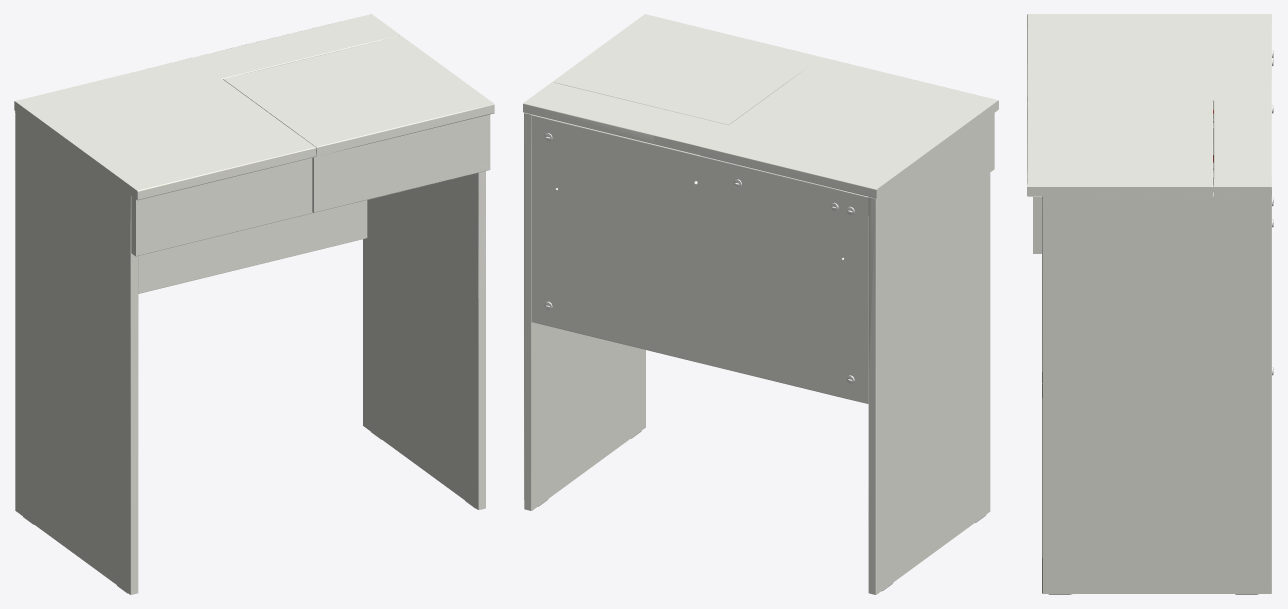
Rendered from BRIMNES_70290459.glb.
The picture shows the model from 3 angles, left to right: view 1: azimuth 30°, elevation 25°; view 2: azimuth 150°, elevation 25°; view 3: azimuth 270°, elevation 25°; orthographic projection.
Parts seen in each view (by area): view 1: 1; view 2: 1; view 3: 1.
Boxes of the visible parts, x1,y1,x2,y2 form: 1: (14,14,494,594); 1: (523,14,998,594); 1: (1027,14,1273,594).
Size of the model in its own units: 0.702 by 0.773 by 0.423.
Materials: 2 (2 with a texture image).
